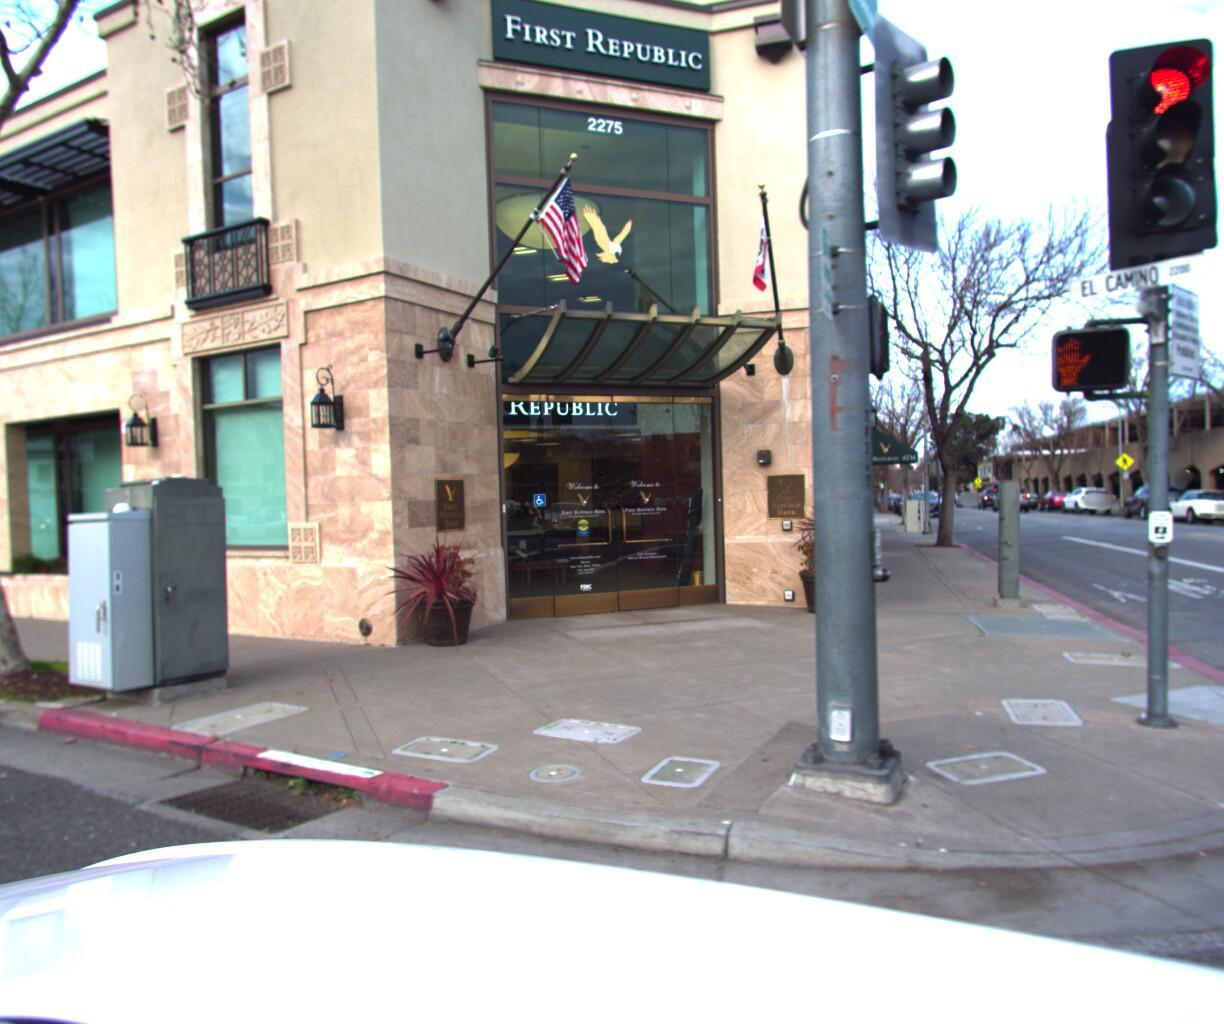car: (1152, 481, 1224, 524), (1126, 480, 1194, 519), (1059, 481, 1117, 513), (1033, 482, 1082, 509), (1194, 469, 1224, 510), (988, 481, 1030, 508), (1006, 484, 1045, 506), (954, 488, 981, 507)
